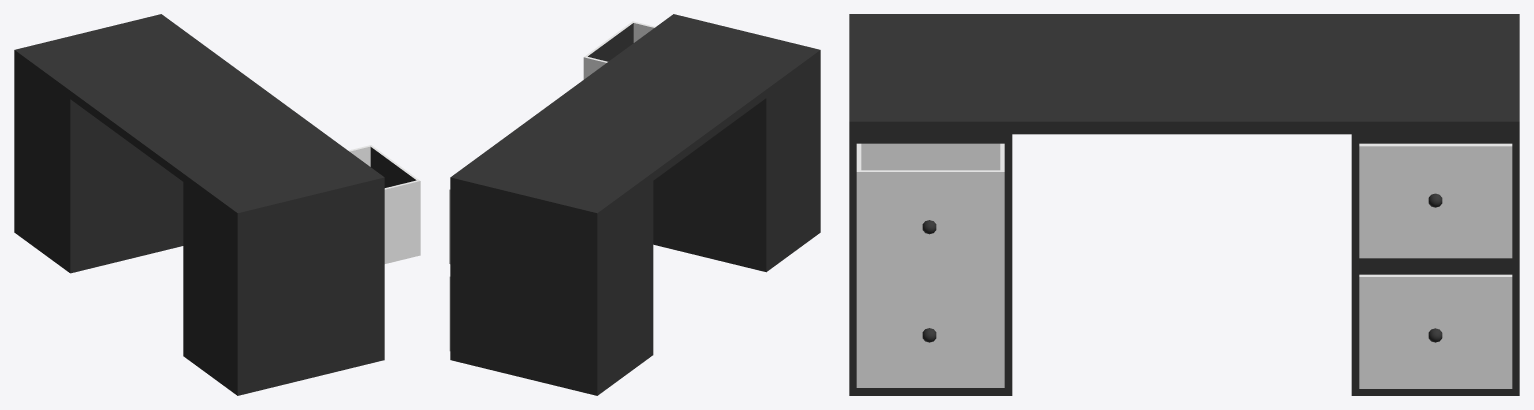
File: table.fbx
The picture shows the model from 3 angles, left to right: view 1: azimuth 30°, elevation 25°; view 2: azimuth 150°, elevation 25°; view 3: azimuth 270°, elevation 25°; orthographic projection. The views are drawn at different scales.
Visible parts, largest first — view 1: Box039; view 2: Box039; view 3: Box039.
Part boxes in pixels (x1=…): Box039: x1=14, y1=14, x2=420, y2=395; Box039: x1=449, y1=14, x2=820, y2=395; Box039: x1=849, y1=14, x2=1519, y2=395.
Bounding box in the file's own units: 95.2 × 86.99 × 193.
Materials: 1 (1 with a texture image).
